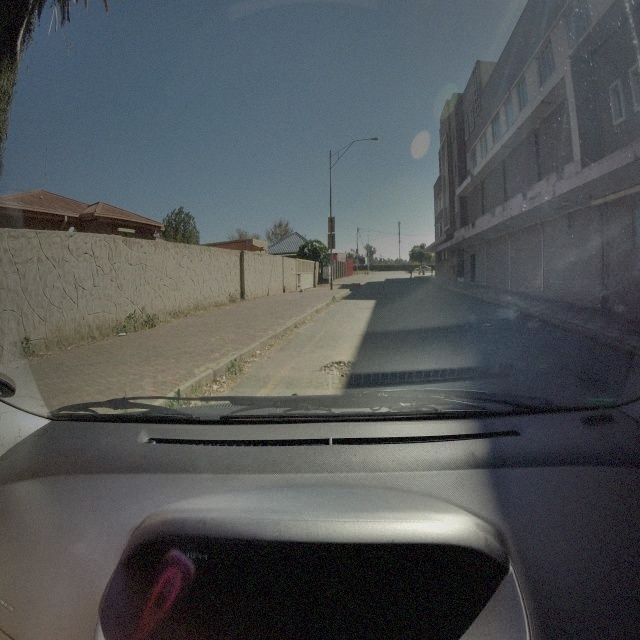pothole: (319, 356, 356, 379)
